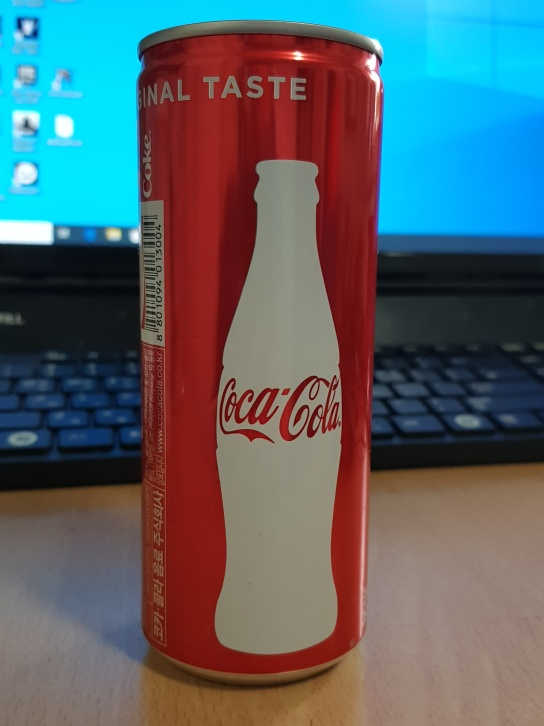Can: (132, 19, 390, 693)
